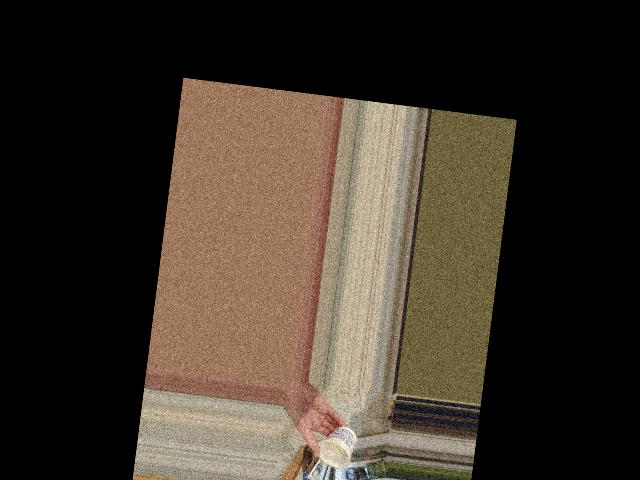cotage: (317, 421, 355, 469)
